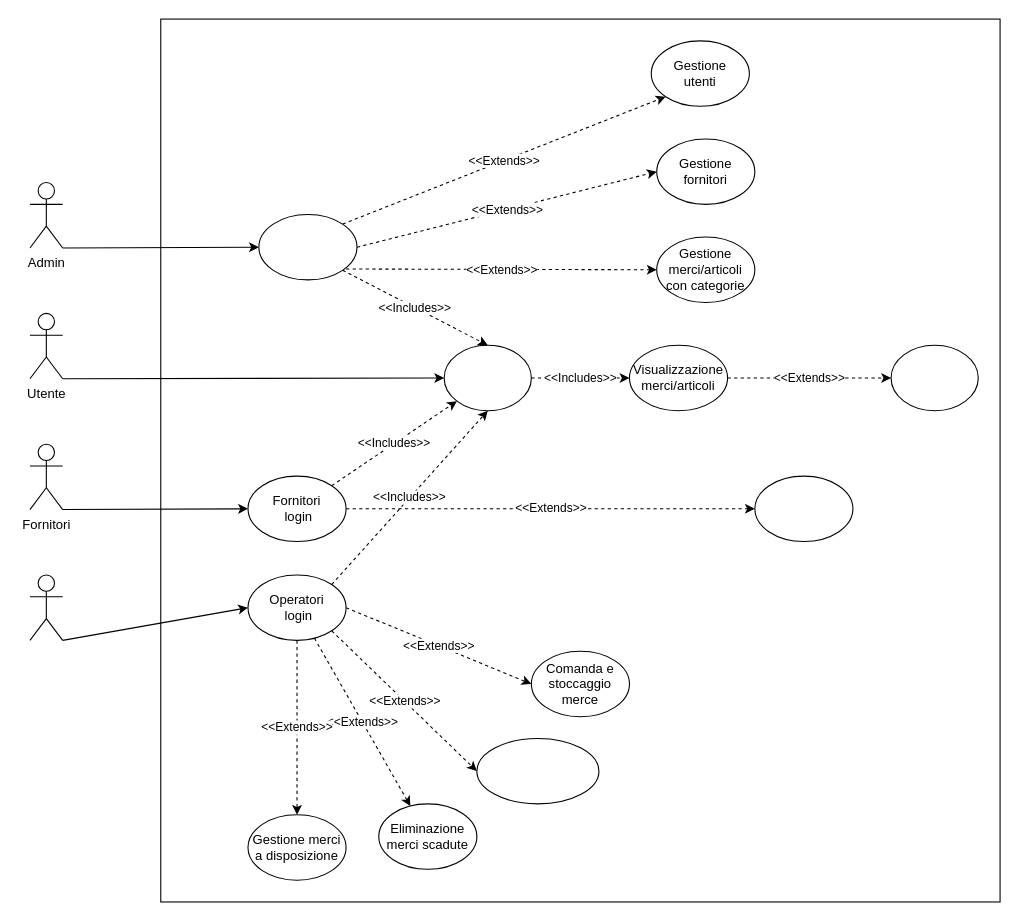
The diagram is 1019 pixels wide and 921 high, and some of its shapes have lost their labels. Each missing label, with the centre of its shape:
"Admin login" goes at pixel 307 246.
"Assegnazione merci da magazzino a utenti" goes at pixel 537 770.
"Login" goes at pixel 487 377.
"Metto a disposizione la merce" goes at pixel 803 508.
"Operatori" goes at pixel 46 607.
"Richiesta merci" goes at pixel 934 377.
